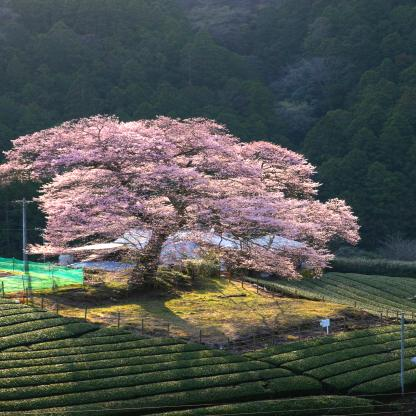EdohiganSakura: (0, 112, 362, 292)
